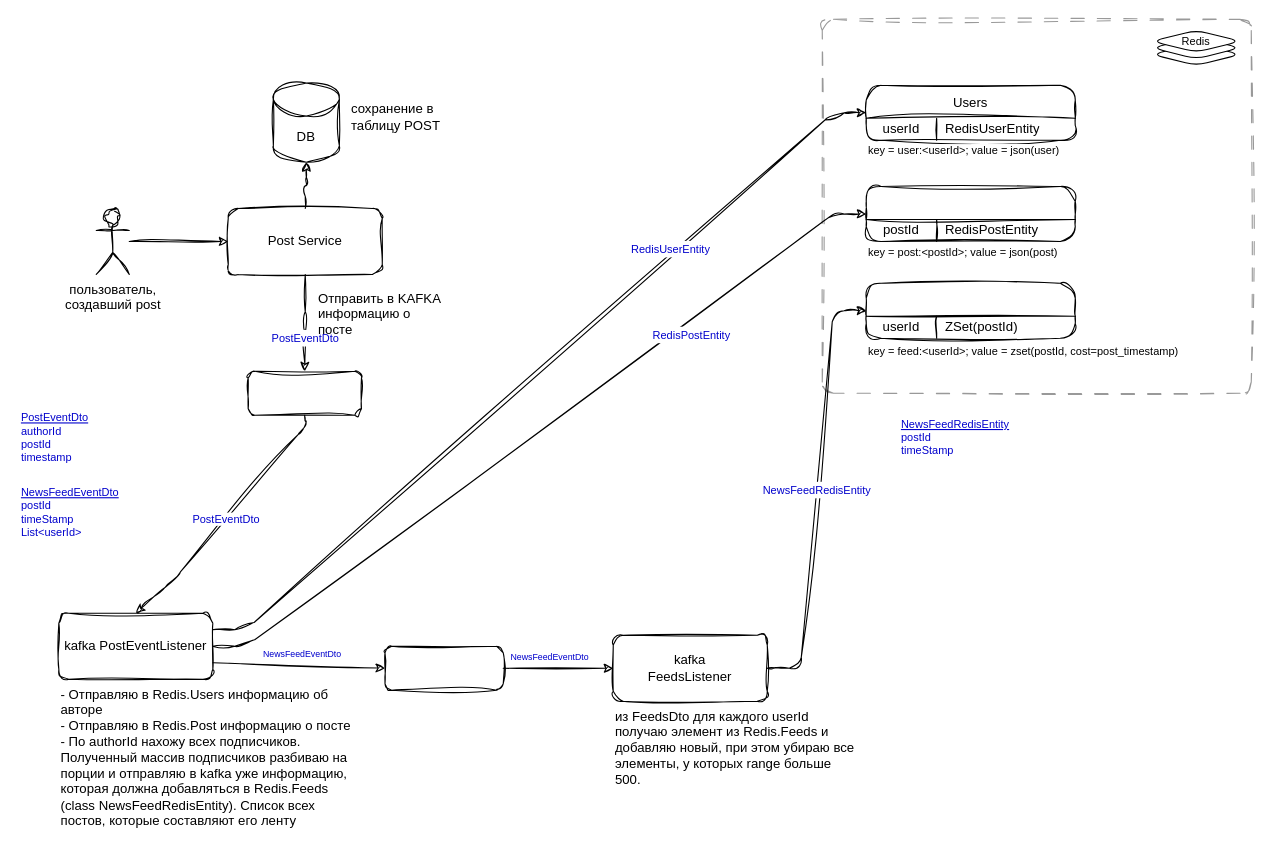
This 1271x853 diagram has some shape labels left out. The box of each missing label's shape, as (x1, y1, x2, y2) in pixels:
Feeds: (865, 282, 1075, 338)
KAFKA (newsfeed-topic): (384, 645, 503, 690)
KAFKA (post-topic): (247, 370, 361, 415)
Posts: (865, 185, 1075, 241)
